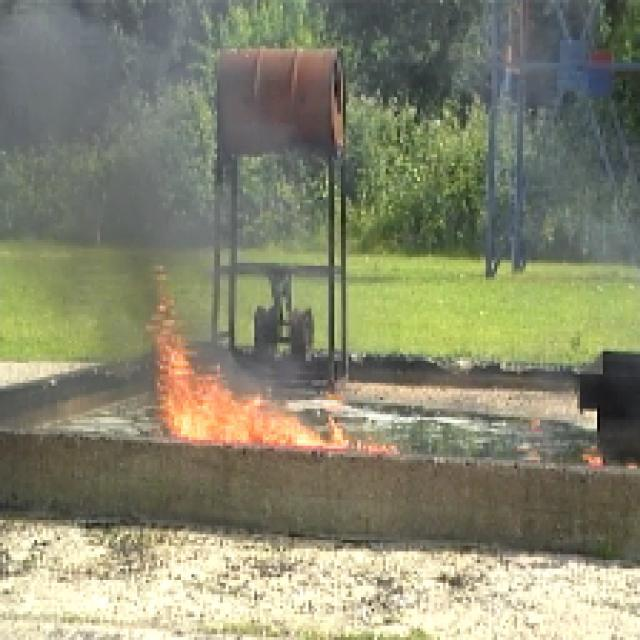Fire: (150, 346, 345, 459)
Smoke: (12, 37, 106, 100)
